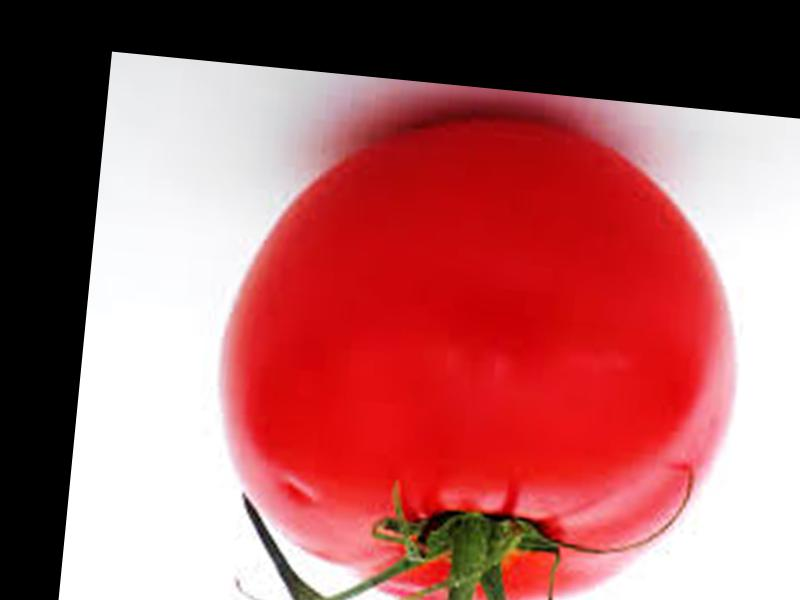Tomato: (203, 89, 764, 600)
